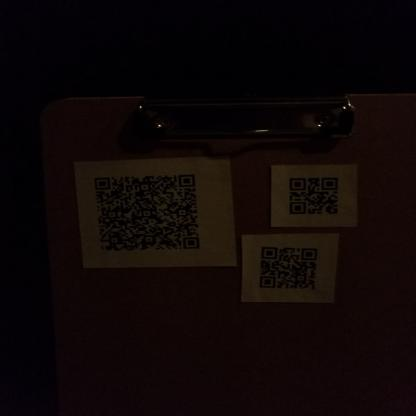qr: (93, 172, 203, 258), (258, 245, 321, 293), (285, 174, 343, 220)
